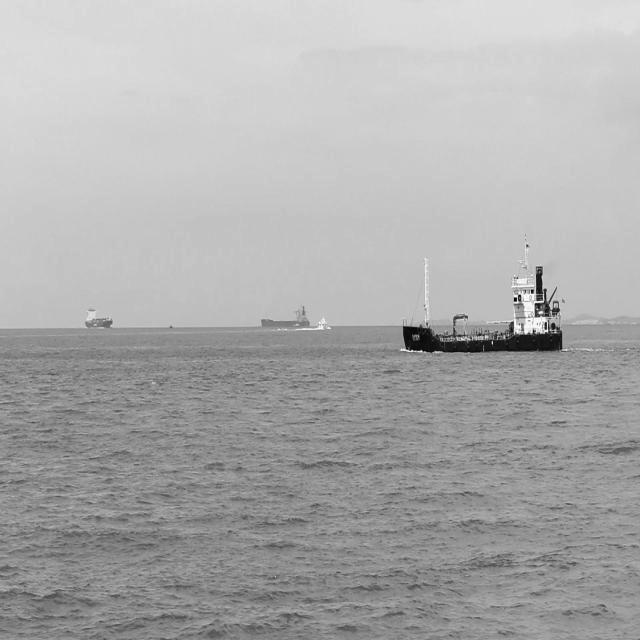ship: (399, 231, 566, 355), (260, 298, 311, 332), (84, 301, 115, 329), (315, 312, 330, 332)
